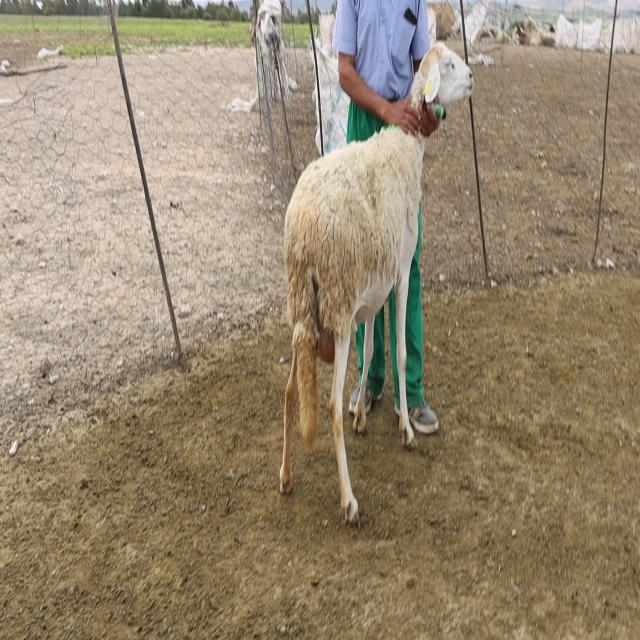Score_2: (280, 126, 426, 523)
